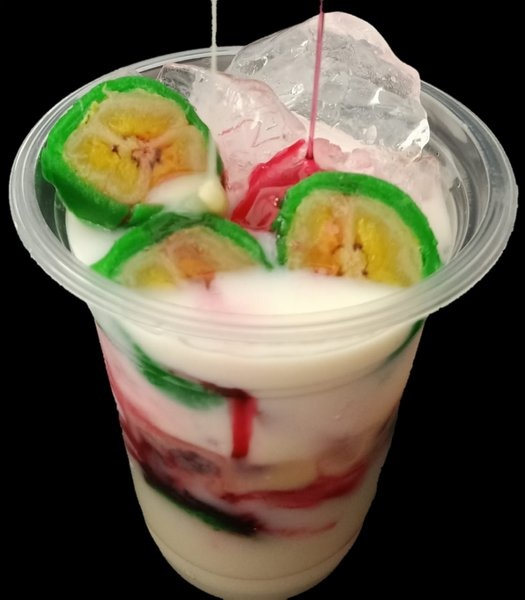pisang_ijo: (46, 73, 223, 234)
